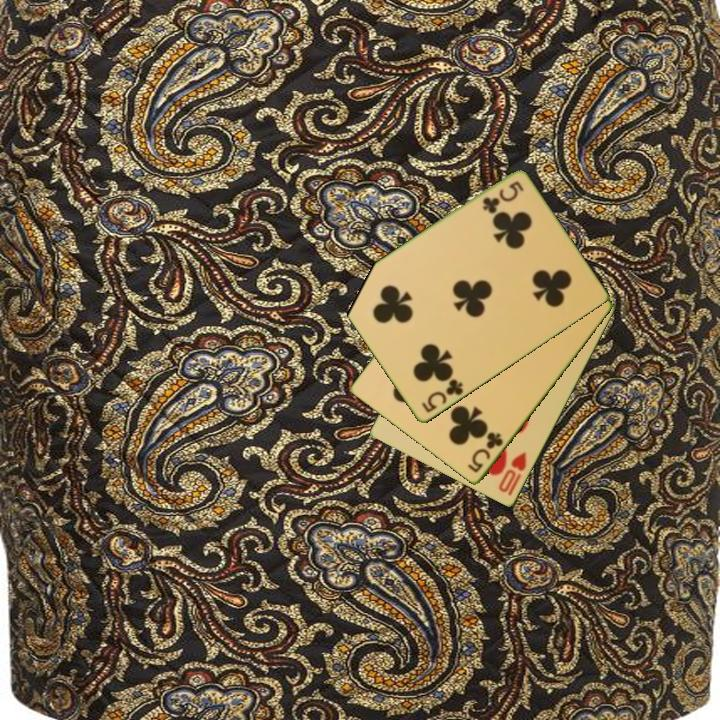10h: (495, 449, 530, 496)
5c: (464, 428, 506, 476), (418, 375, 466, 416), (479, 178, 527, 216)
